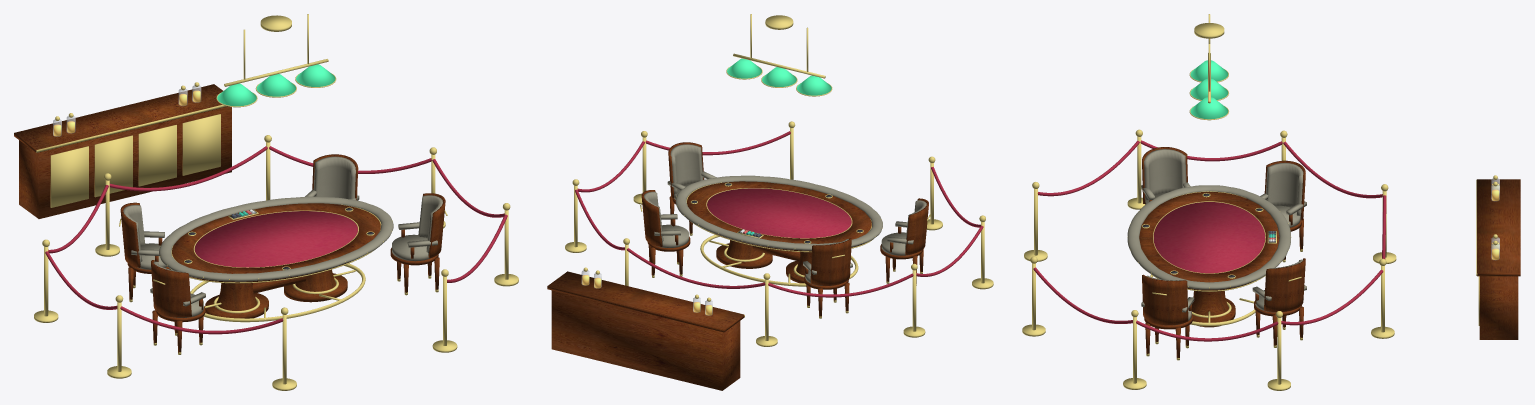
File: vip_poker_table.glb
3 renders of one model, left to right at view 1: azimuth 30°, elevation 25°; view 2: azimuth 150°, elevation 25°; view 3: azimuth 270°, elevation 25°, orthographic. The views are drawn at different scales.
Parts seen in each view (by area): view 1: Salon_CredenzaBar_DarkMahoganyWood, Salon_CredenzaBar_AntiqueBrass, Table_EmeraldFelt, Salon_VIPChairs_DarkMahoganyWood, Salon_VIPChairs_QuiltedBlackLeather, Table_QuiltedLeatherBolster, Salon_Stanchions_AntiqueBrass, Table_WalnutRacetrack, Table_Group_DarkMahoganyWood, Salon_Stanchions_CrimsonVelvetRope, Table_Group_AntiqueBrass, Salon_Chandelier_EmeraldGlassShade (+2 smaller); view 2: Salon_CredenzaBar_DarkMahoganyWood, Table_EmeraldFelt, Salon_VIPChairs_DarkMahoganyWood, Salon_VIPChairs_QuiltedBlackLeather, Salon_Stanchions_AntiqueBrass, Table_QuiltedLeatherBolster, Table_WalnutRacetrack, Salon_Stanchions_CrimsonVelvetRope, Table_Group_DarkMahoganyWood, Table_Group_AntiqueBrass, Salon_Chandelier_EmeraldGlassShade, Salon_Chandelier_AntiqueBrass (+1 smaller); view 3: Salon_CredenzaBar_DarkMahoganyWood, Table_EmeraldFelt, Salon_VIPChairs_DarkMahoganyWood, Salon_VIPChairs_QuiltedBlackLeather, Salon_Stanchions_AntiqueBrass, Table_QuiltedLeatherBolster, Table_WalnutRacetrack, Salon_Stanchions_CrimsonVelvetRope, Salon_Chandelier_EmeraldGlassShade, Table_Group_DarkMahoganyWood, Table_Group_AntiqueBrass, Salon_Chandelier_AntiqueBrass.
Part boxes in pixels (<box>): Salon_CredenzaBar_DarkMahoganyWood: <box>14,84,231,218</box>; Salon_CredenzaBar_AntiqueBrass: <box>36,82,226,207</box>; Table_EmeraldFelt: <box>194,211,357,267</box>; Salon_VIPChairs_DarkMahoganyWood: <box>120,154,445,352</box>; Salon_VIPChairs_QuiltedBlackLeather: <box>123,156,442,317</box>; Table_QuiltedLeatherBolster: <box>159,196,393,281</box>; Salon_Stanchions_AntiqueBrass: <box>34,135,518,390</box>; Table_WalnutRacetrack: <box>172,203,380,273</box>; Table_Group_DarkMahoganyWood: <box>189,260,353,318</box>; Salon_Stanchions_CrimsonVelvetRope: <box>45,146,507,334</box>; Table_Group_AntiqueBrass: <box>159,204,392,322</box>; Salon_Chandelier_EmeraldGlassShade: <box>217,64,335,106</box>; Salon_CredenzaBar_DarkMahoganyWood: <box>547,271,744,390</box>; Table_EmeraldFelt: <box>707,188,851,238</box>; Salon_VIPChairs_DarkMahoganyWood: <box>641,142,928,316</box>; Salon_VIPChairs_QuiltedBlackLeather: <box>644,144,926,285</box>; Salon_Stanchions_AntiqueBrass: <box>565,121,993,346</box>; Table_QuiltedLeatherBolster: <box>675,175,882,250</box>; Table_WalnutRacetrack: <box>687,181,871,243</box>; Salon_Stanchions_CrimsonVelvetRope: <box>575,131,983,297</box>; Table_Group_DarkMahoganyWood: <box>707,230,865,283</box>; Table_Group_AntiqueBrass: <box>676,182,882,286</box>; Salon_Chandelier_EmeraldGlassShade: <box>727,58,831,95</box>; Salon_Chandelier_AntiqueBrass: <box>726,14,832,96</box>; Salon_CredenzaBar_DarkMahoganyWood: <box>1477,179,1520,339</box>; Table_EmeraldFelt: <box>1153,202,1265,273</box>; Salon_VIPChairs_DarkMahoganyWood: <box>1142,147,1305,357</box>; Salon_VIPChairs_QuiltedBlackLeather: <box>1141,149,1306,325</box>; Salon_Stanchions_AntiqueBrass: <box>1022,129,1396,390</box>; Table_QuiltedLeatherBolster: <box>1127,185,1290,289</box>; Table_WalnutRacetrack: <box>1139,191,1279,282</box>; Salon_Stanchions_CrimsonVelvetRope: <box>1033,140,1386,341</box>; Salon_Chandelier_EmeraldGlassShade: <box>1190,60,1228,119</box>; Table_Group_DarkMahoganyWood: <box>1187,281,1253,327</box>; Table_Group_AntiqueBrass: <box>1127,191,1291,326</box>; Salon_Chandelier_AntiqueBrass: <box>1189,14,1228,120</box>.
Size of the model in its own units: 5.39 by 3.5 by 5.94.
Materials: 15 (5 with a texture image).
